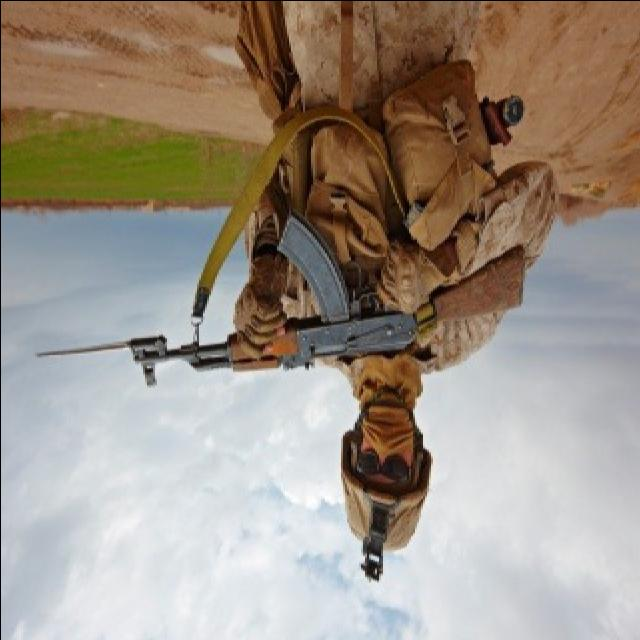rifle: (29, 247, 545, 387)
